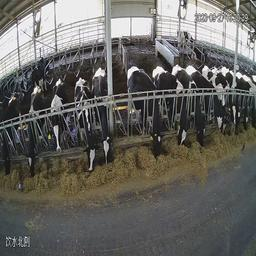cow: (125, 63, 170, 165), (70, 75, 98, 182), (22, 84, 47, 186), (93, 66, 116, 176), (166, 68, 190, 153), (205, 76, 231, 144), (48, 76, 70, 155), (2, 89, 20, 181), (189, 75, 205, 152), (233, 92, 247, 144), (176, 22, 197, 51), (31, 57, 50, 89), (248, 96, 254, 137)
